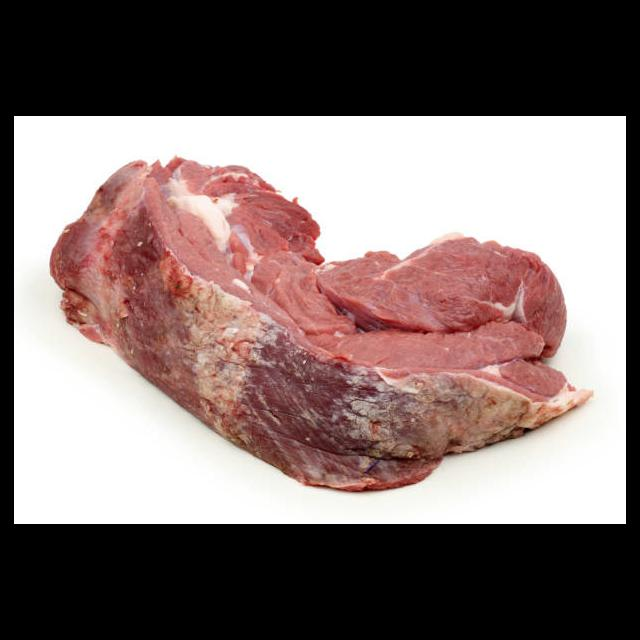beef: (47, 156, 594, 495)
